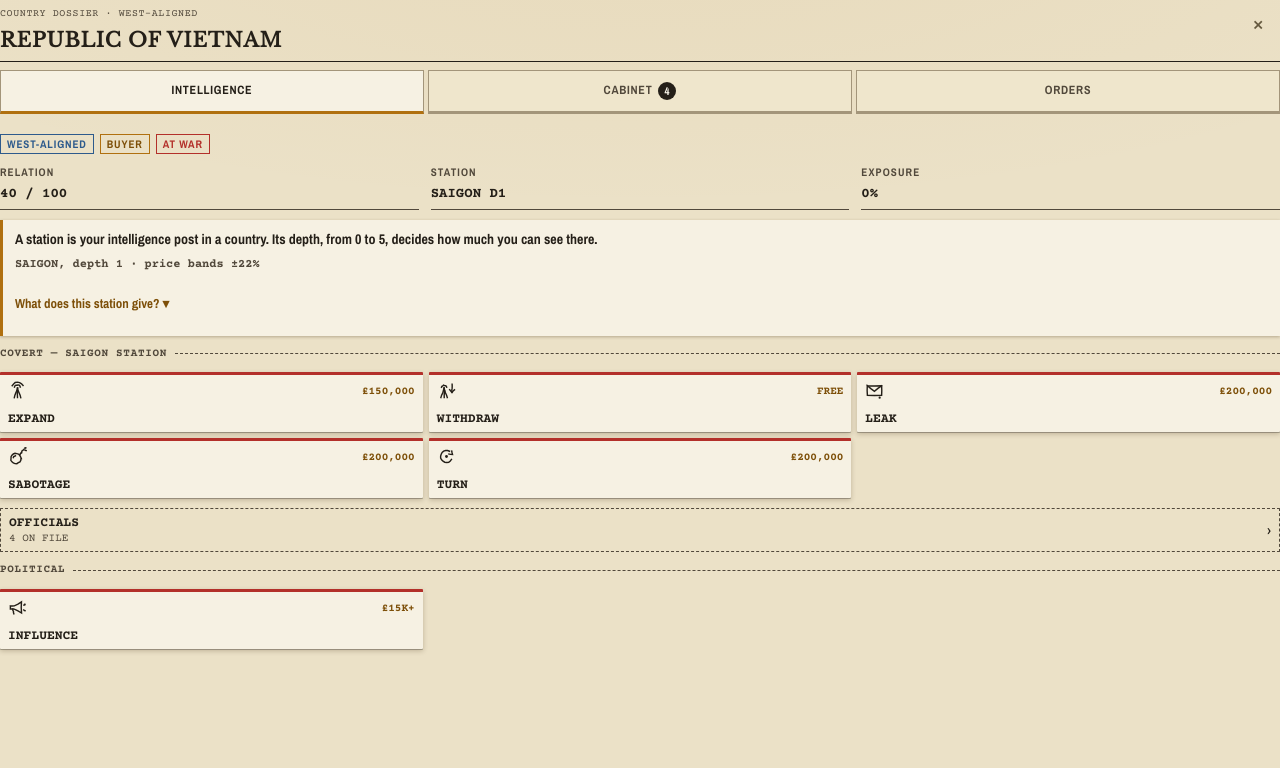
landmappen: LEAK mot en bedömning (P146) › ett rykte som redan sprids kan inte plantas igen — kategorin saknas i listan
Click the button with test id "cf-verb-LEAK" at (1246, 392), box [857,372,1279,432]
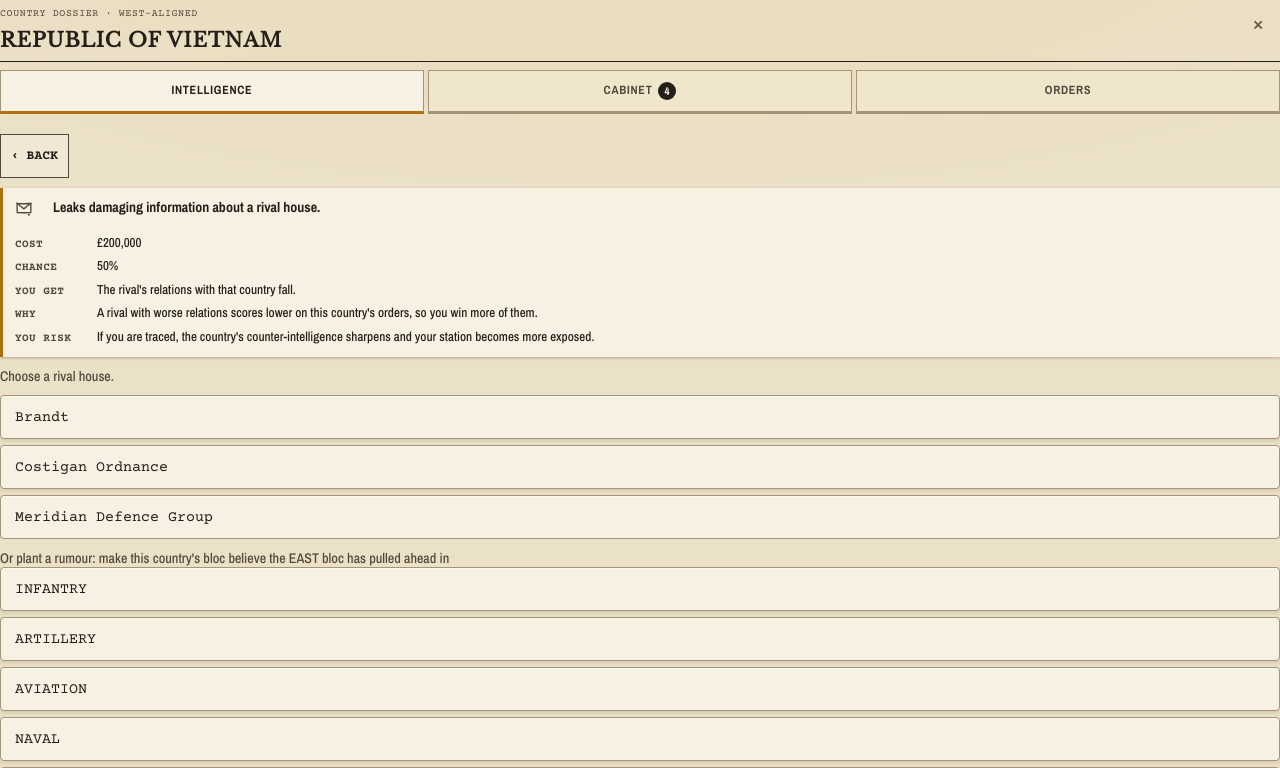
Check: the button with test id "cf-rumour-aviation" is shown, box [0,667,1279,711]
